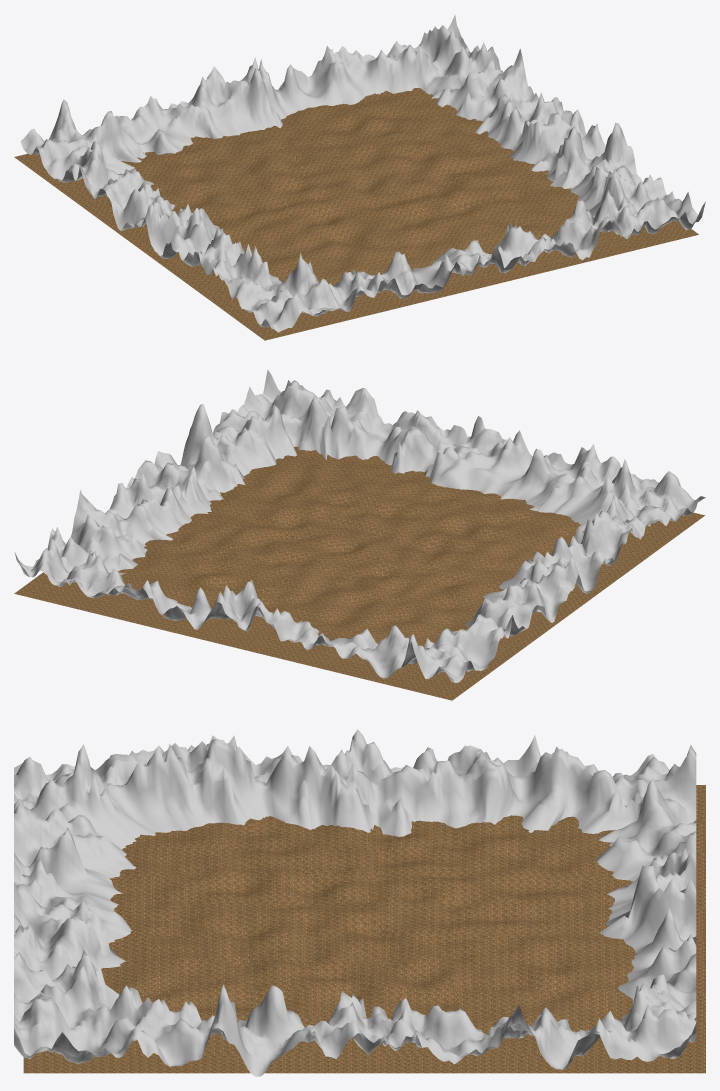
Rendered from Terrain.fbx.
3 views of the same model, one above another, from view 1: azimuth 30°, elevation 25°; view 2: azimuth 150°, elevation 25°; view 3: azimuth 270°, elevation 25° (orthographic). The views are drawn at different scales.
Parts seen in each view (by area): view 1: Landscape.001, Landscape.005; view 2: Landscape.001, Landscape.005; view 3: Landscape.005, Landscape.001.
Boxes of the visible parts, box(x1,y1,x2,y2) form: Landscape.001: box(14, 88, 698, 340); Landscape.005: box(20, 14, 705, 332); Landscape.001: box(14, 446, 704, 700); Landscape.005: box(14, 370, 705, 682); Landscape.005: box(14, 729, 696, 1076); Landscape.001: box(23, 785, 705, 1073).
Size of the model in its own units: 20.14 by 3.95 by 20.29.
